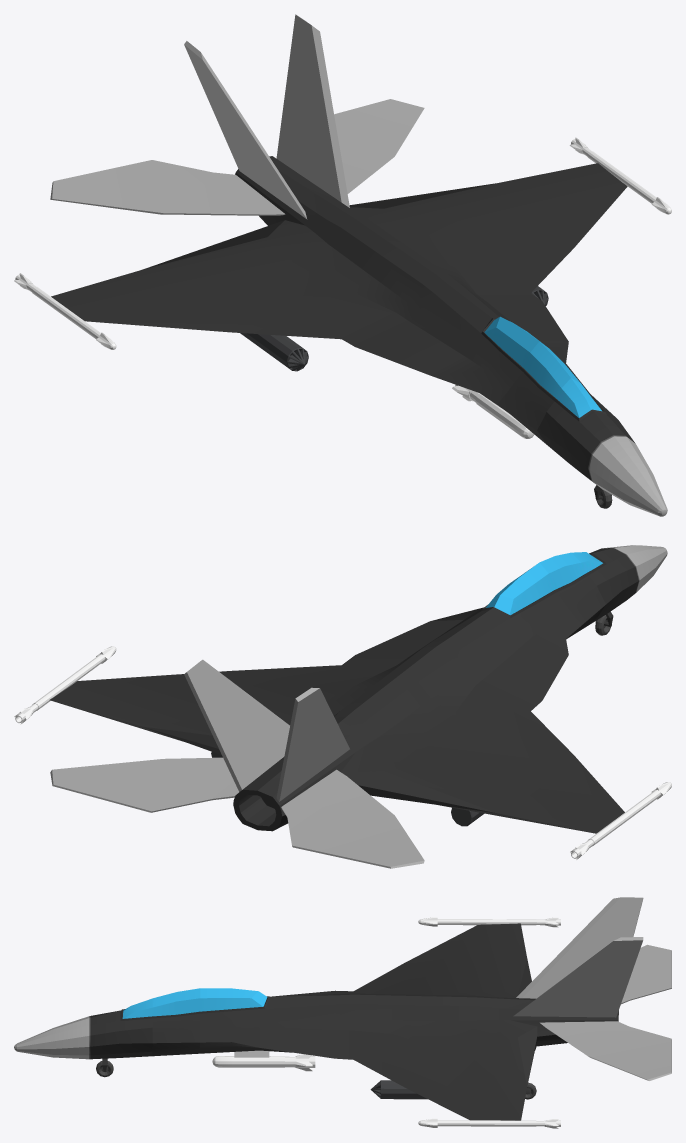
File: FighterJet1.fbx
3 renders of one model, top to bottom at view 1: azimuth 30°, elevation 25°; view 2: azimuth 150°, elevation 25°; view 3: azimuth 270°, elevation 25°, orthographic. The views are drawn at different scales.
Visible parts, largest first — view 1: FighterJet1; view 2: FighterJet1; view 3: FighterJet1.
Part boxes in pixels (x1,y1,x2,y2): FighterJet1: (14, 14, 671, 516); FighterJet1: (14, 545, 671, 868); FighterJet1: (14, 897, 671, 1128).
Size of the model in its own units: 624 by 226 by 843.
Materials: 1 (1 with a texture image).
